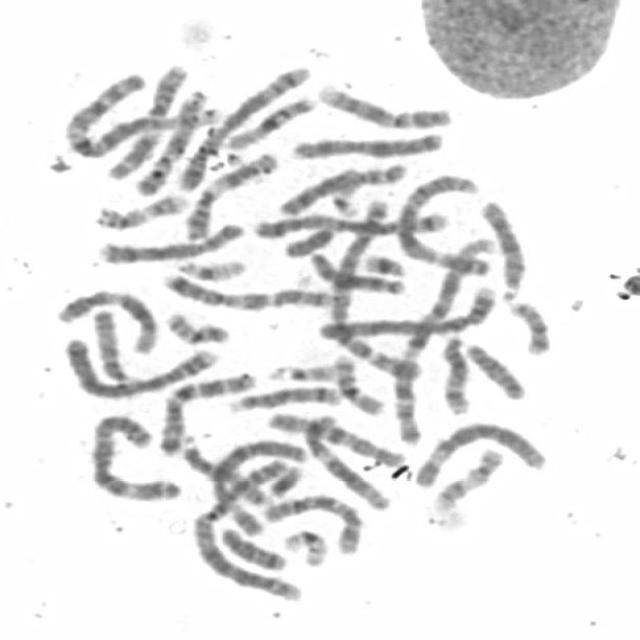A1: (391, 233, 494, 448), (57, 67, 215, 159)
A2: (323, 196, 425, 380), (188, 458, 304, 604)
A3: (391, 168, 494, 277), (83, 407, 185, 503)
B4: (313, 280, 500, 341), (57, 332, 223, 400)
B5: (166, 61, 313, 192), (246, 207, 457, 241)
C10: (264, 407, 410, 468), (257, 488, 367, 556)
C11: (103, 59, 191, 180), (178, 148, 279, 242)
C12: (298, 408, 392, 512), (50, 282, 162, 354)
C6: (206, 434, 303, 542), (410, 416, 549, 489)
C7: (156, 367, 261, 457), (158, 268, 336, 310)
C8: (274, 158, 412, 216), (92, 217, 247, 264)
C9: (128, 88, 210, 198), (312, 77, 456, 131)
D13: (475, 196, 528, 301), (307, 249, 408, 297)
D14: (223, 381, 344, 414), (436, 328, 472, 417)
D15: (176, 431, 277, 508), (87, 304, 133, 385)
E16: (220, 91, 321, 152), (327, 348, 387, 417)
E17: (428, 444, 506, 512), (90, 188, 191, 231)
E18: (459, 338, 529, 402), (214, 523, 289, 572)
F19: (278, 524, 332, 568), (170, 253, 250, 282)
F20: (504, 295, 553, 355), (158, 307, 232, 345)
G21: (261, 459, 305, 499), (358, 248, 408, 278)
G22: (325, 165, 363, 220), (264, 358, 342, 382)
X: (285, 127, 447, 162)
Y: (277, 222, 338, 258)
